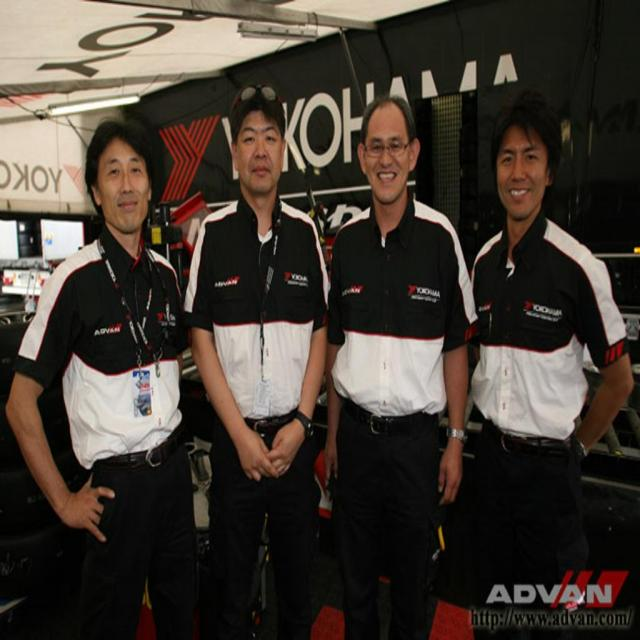nomask: (96, 136, 148, 232), (497, 117, 545, 218), (368, 105, 408, 207), (238, 103, 280, 192)
